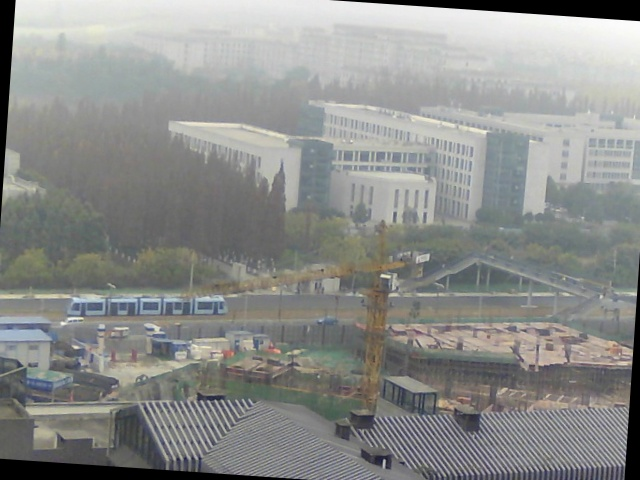raccoon: (75, 302, 224, 313)
